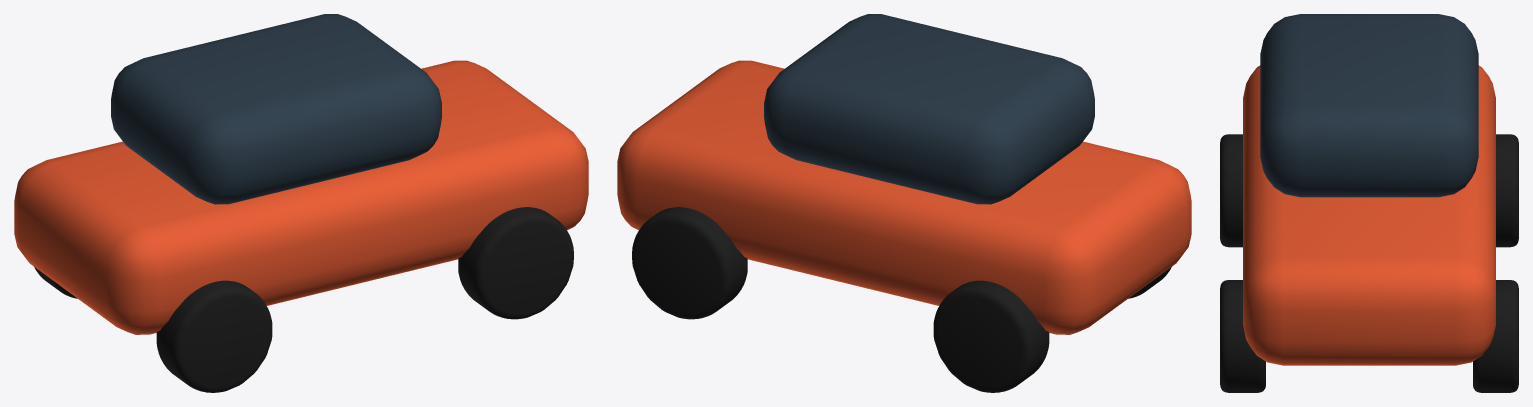
File: car.glb
3 views of the same model, side by side, from view 1: azimuth 30°, elevation 25°; view 2: azimuth 150°, elevation 25°; view 3: azimuth 270°, elevation 25° (orthographic).
Parts seen in each view (by area): view 1: car_body, car_cab, w; view 2: car_body, car_cab, w; view 3: car_body, car_cab, w.
Boxes of the visible parts, x1,y1,x2,y2 form: car_body: (14, 60, 588, 334); car_cab: (111, 14, 441, 204); w: (34, 207, 573, 392); car_body: (617, 60, 1191, 334); car_cab: (764, 14, 1094, 204); w: (632, 207, 1171, 392); car_body: (1243, 65, 1495, 365); car_cab: (1260, 14, 1478, 197); w: (1220, 134, 1518, 392).
Bounding box in the file's own units: 0.95 × 0.4635 × 0.52.
